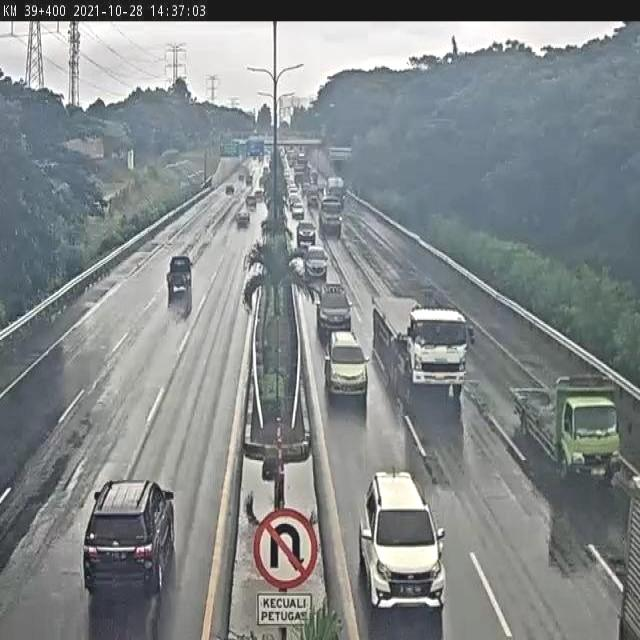Car: (357, 469, 445, 612), (82, 479, 175, 584), (323, 330, 369, 403), (317, 283, 353, 341), (166, 255, 193, 315), (304, 244, 328, 278), (296, 221, 316, 249), (306, 183, 320, 206), (290, 198, 304, 220), (235, 209, 250, 228), (246, 192, 256, 210), (225, 184, 234, 194)
Truck: (512, 372, 622, 485), (371, 294, 468, 392), (320, 196, 344, 237)
